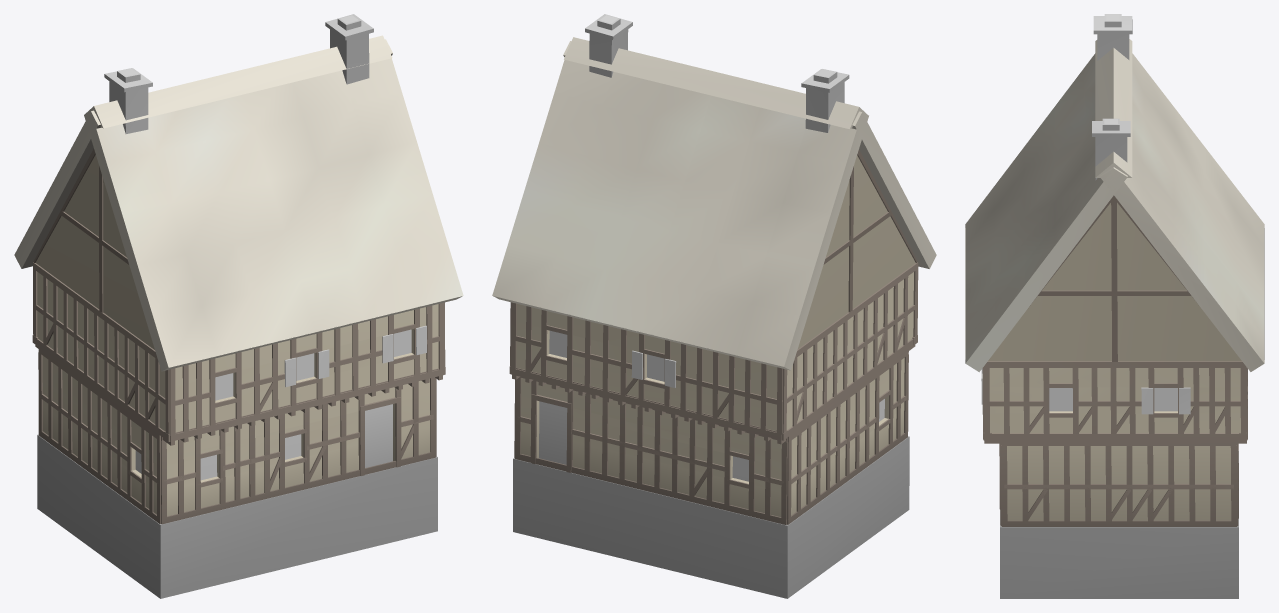
The model's file is timber_2.glb.
The picture shows the model from 3 angles, left to right: view 1: azimuth 30°, elevation 25°; view 2: azimuth 150°, elevation 25°; view 3: azimuth 270°, elevation 25°; orthographic projection. The views are drawn at different scales.
Visible parts, largest first — view 1: timber_2; view 2: timber_2; view 3: timber_2.
Boxes of the visible parts, x1=… form: timber_2: x1=14, y1=14, x2=463, y2=598; timber_2: x1=492, y1=14, x2=936, y2=598; timber_2: x1=965, y1=14, x2=1264, y2=598.
Bounding box in the file's own units: 9.85 × 15.18 × 8.88.
